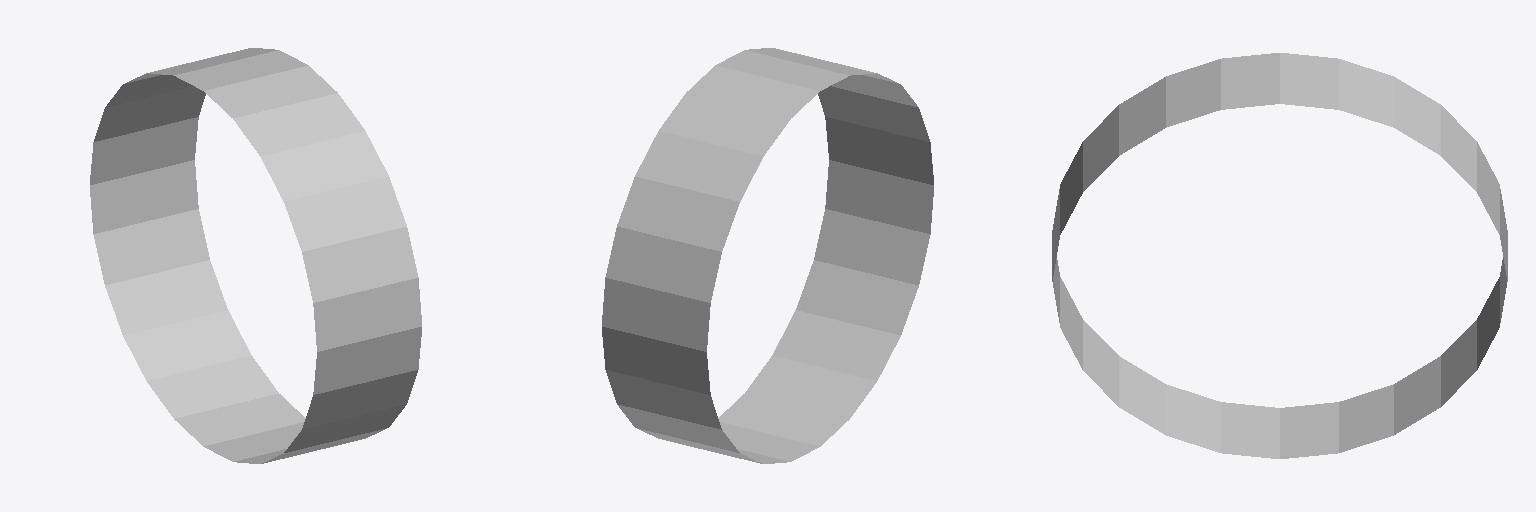
The model's file is original-26.obj.
The picture shows the model from 3 angles: view 1: azimuth 30°, elevation 25°; view 2: azimuth 150°, elevation 25°; view 3: azimuth 270°, elevation 25°; orthographic projection.
Parts seen in each view (by area): view 1: mesh12/mesh12-geometry/material_1/component_9#mesh12-geometry; view 2: mesh12/mesh12-geometry/material_1/component_9#mesh12-geometry; view 3: mesh12/mesh12-geometry/material_1/component_9#mesh12-geometry.
Part boxes in pixels (x1,y1,x2,y2): mesh12/mesh12-geometry/material_1/component_9#mesh12-geometry: (90, 48, 421, 463); mesh12/mesh12-geometry/material_1/component_9#mesh12-geometry: (602, 48, 933, 463); mesh12/mesh12-geometry/material_1/component_9#mesh12-geometry: (1052, 53, 1507, 458).
Size of the model in its own units: 0.0098 by 0.0317 by 0.0368.